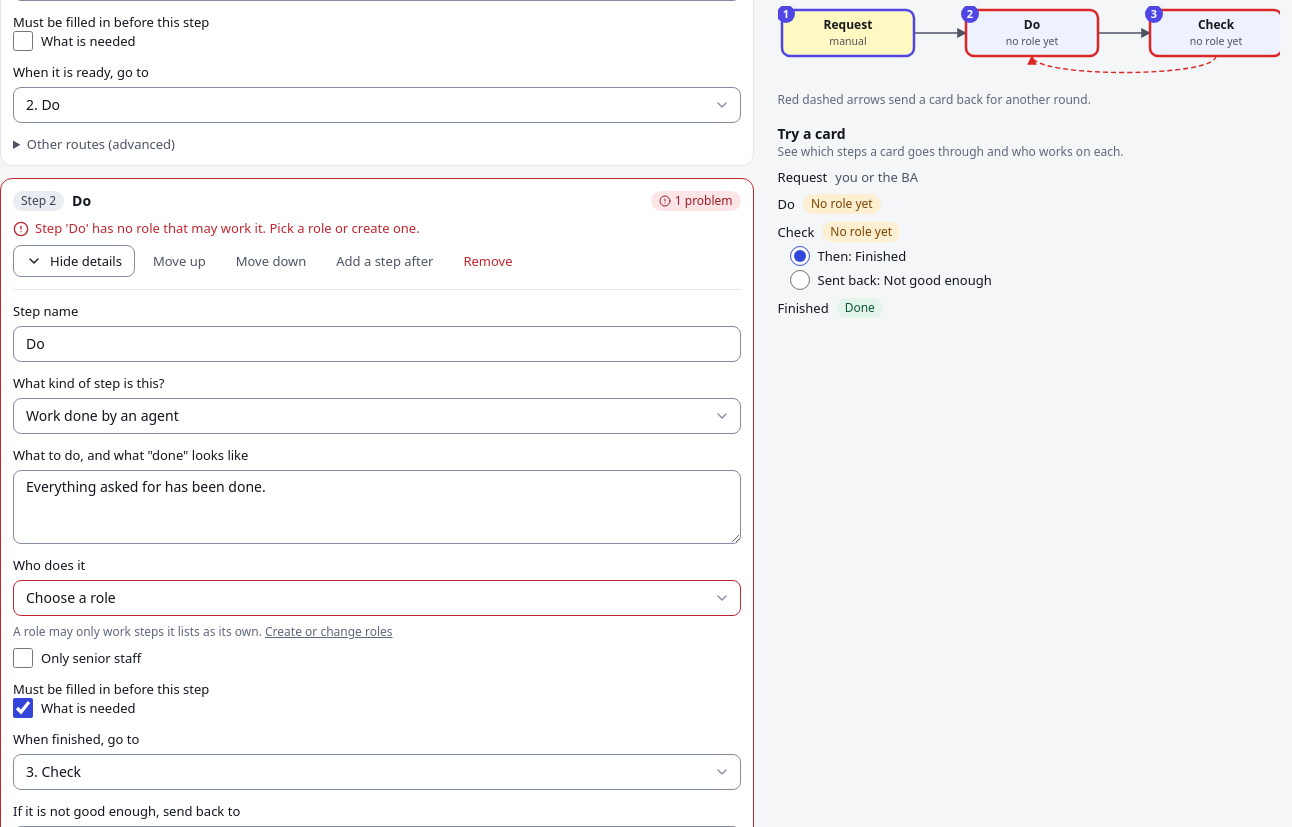
Test: sub-workflow step editor › offers "Start another workflow" as a step kind and shows the editor with sensible defaults
(page scrolled)
Select "Start another workflow" in the dropdown labelled "What kind of step is this?" at point(377, 416), box [13,398,741,434]
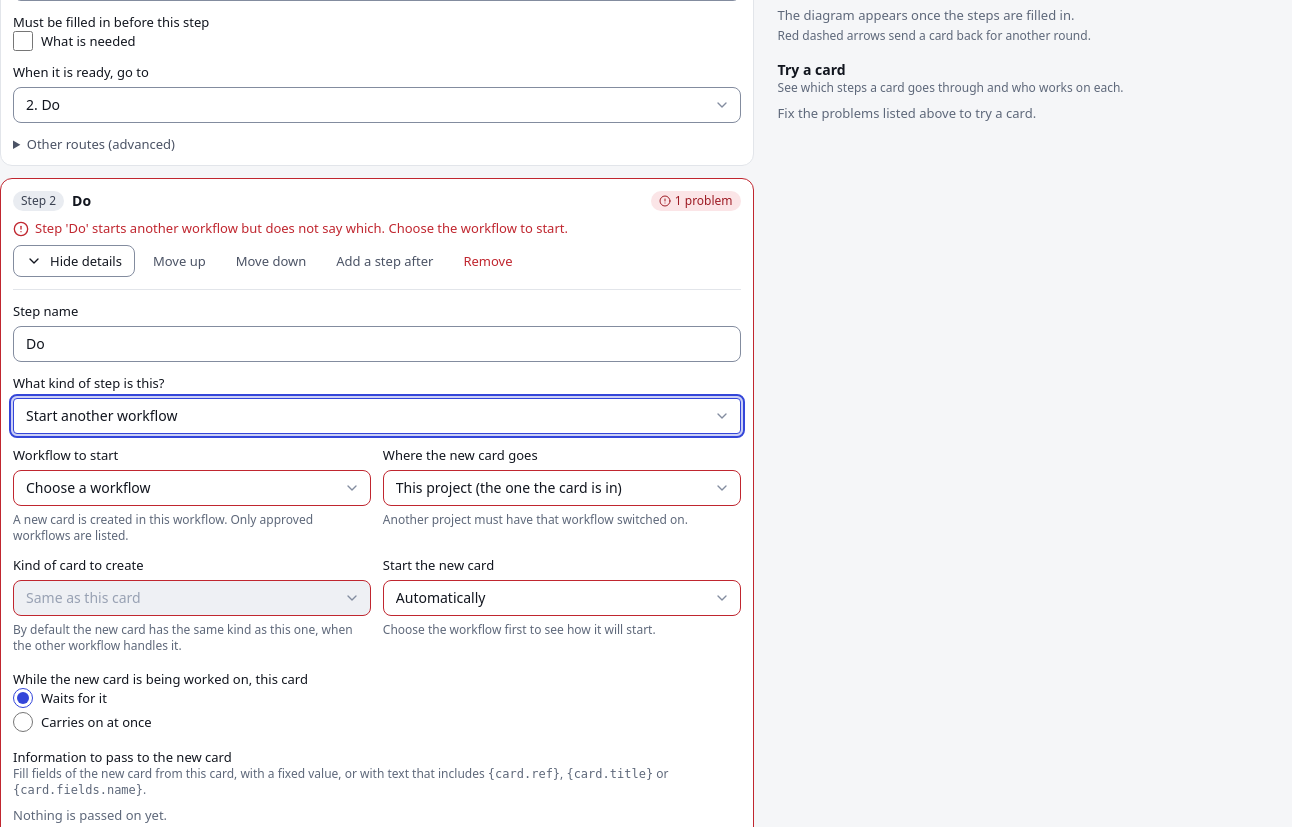
Expected: the field labelled "Who does it" is not shown
Expected: the dropdown labelled "Workflow to start" is shown, [13,470,371,506]
